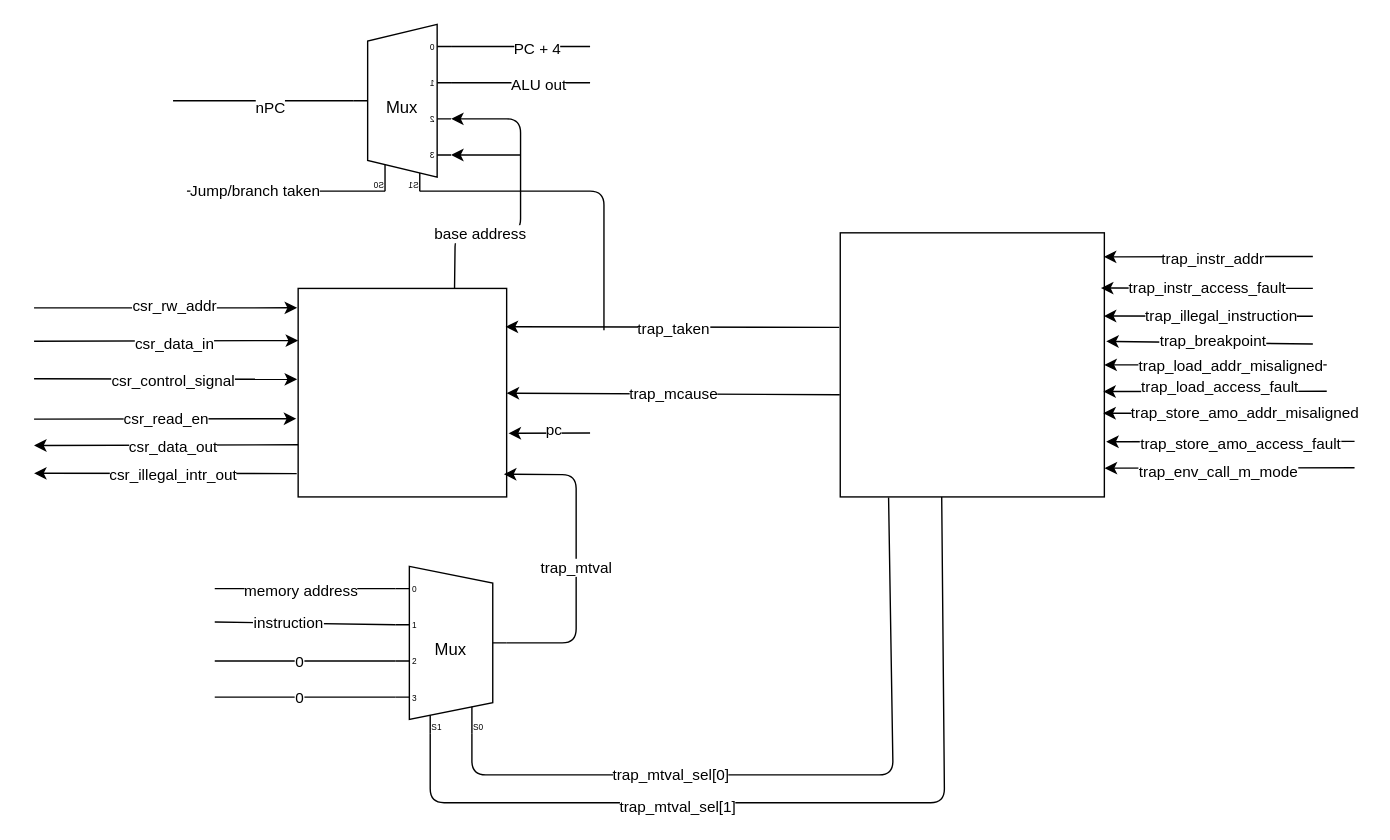
This 1390x840 diagram has some shape labels left out. The shapes that lost their labels are listed below. From the top down, each one's centre as x and y in pixels, then its label:
the point at 971,364: Trap Handler
the point at 402,392: CSR Module
